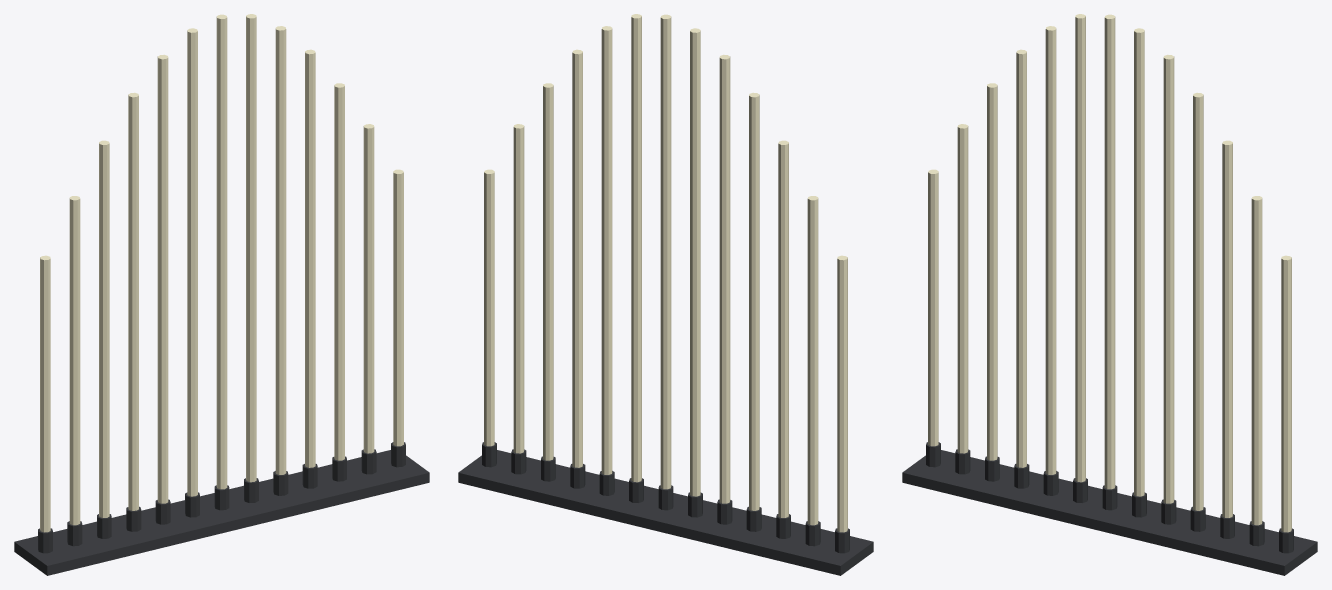
The picture shows the model from 3 angles, left to right: view 1: azimuth 30°, elevation 25°; view 2: azimuth 150°, elevation 25°; view 3: azimuth 330°, elevation 25°; orthographic projection.
Visible parts, largest first — view 1: baseOffset=0;depth=0.3;height=2.5;material=luminaire;power=; (×2); view 2: baseOffset=0;depth=0.3;height=2.5;material=luminaire;power=; (×2); view 3: baseOffset=0;depth=0.3;height=2.5;material=luminaire;power=; (×2).
Part boxes in pixels (box(x1,y1,x2,y2)): baseOffset=0;depth=0.3;height=2.5;material=luminaire;power=; (×2): box(14, 14, 429, 575); baseOffset=0;depth=0.3;height=2.5;material=luminaire;power=; (×2): box(458, 14, 873, 575); baseOffset=0;depth=0.3;height=2.5;material=luminaire;power=; (×2): box(902, 14, 1317, 575).
Size of the model in its own units: 2 by 0.3 by 2.5.
